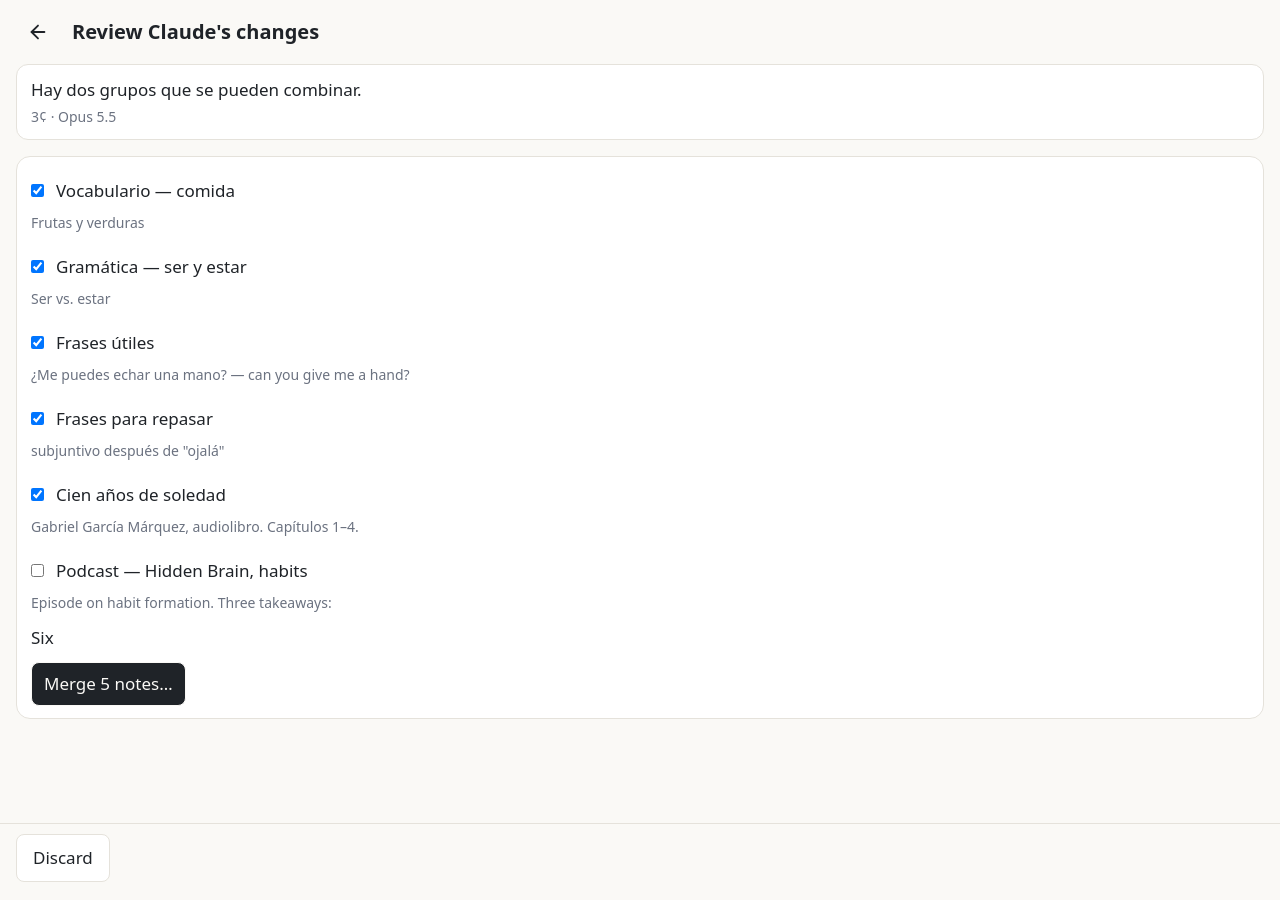
Test case: ticks only the first five in a six-note group and requires 2–5
The width and height of the screenshot is (1280, 900).
Expected: the button "Merge 5 notes…" is enabled, [31,662,186,706]
Click the checkbox labelled "Podcast — Hidden Brain, habits".
click(38, 570)  # box [31,564,44,577]
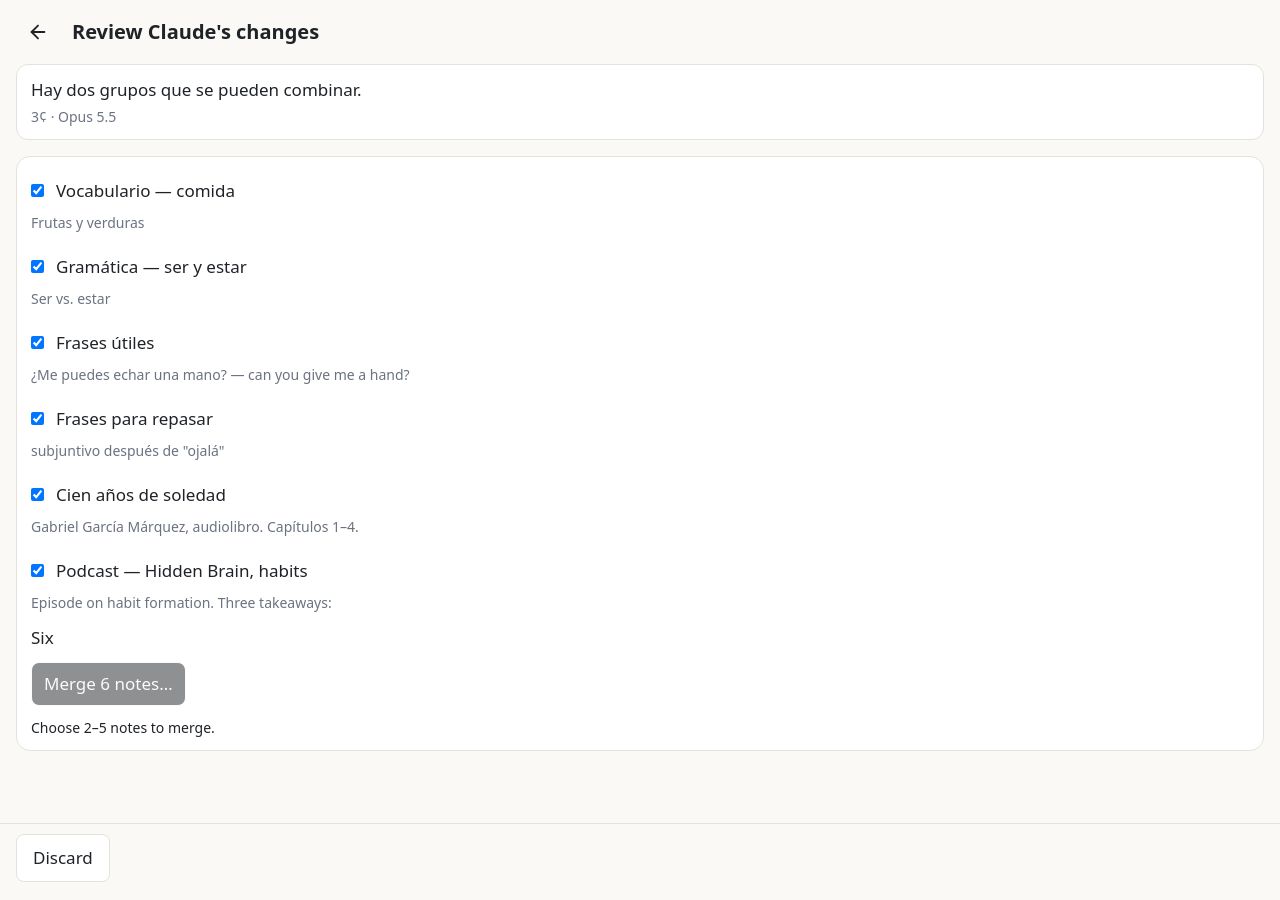
Expected: the button "Merge 6 notes…" is disabled, [31,662,186,706]
Expected: the text "Choose 2–5 notes to merge." is shown, [31,718,215,737]
